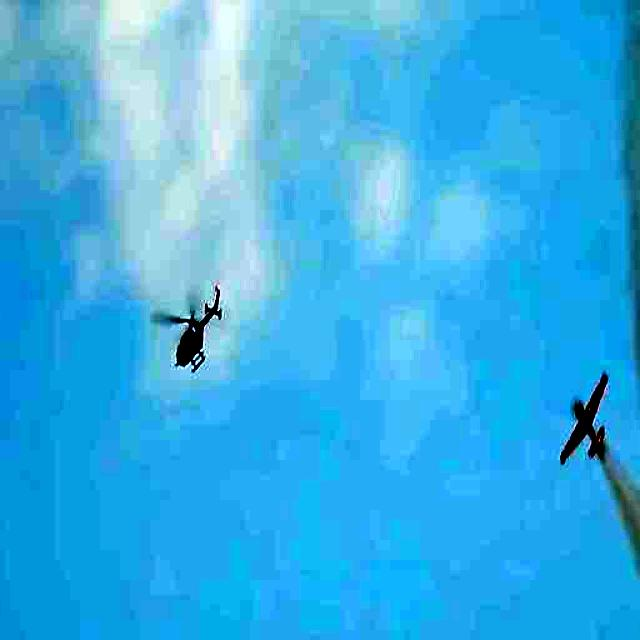drone: (166, 282, 234, 379)
